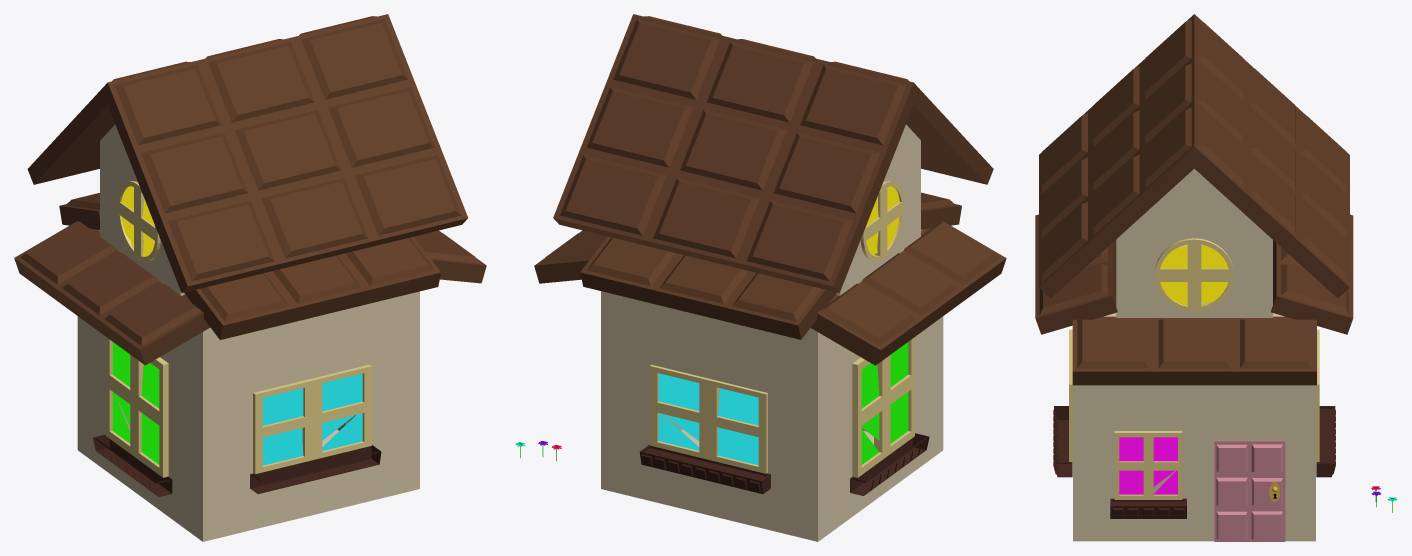
The model's file is casa de chocolate.fbx.
The picture shows the model from 3 angles, left to right: view 1: azimuth 30°, elevation 25°; view 2: azimuth 150°, elevation 25°; view 3: azimuth 270°, elevation 25°; orthographic projection. The views are drawn at different scales.
Parts seen in each view (by area): view 1: Cube; view 2: Cube; view 3: Cube.
Part boxes in pixels (x1,y1,x2,y2): Cube: (14, 14, 486, 541); Cube: (534, 14, 1006, 541); Cube: (1035, 14, 1353, 541).
Size of the model in its own units: 1928 by 2242 by 1799.
